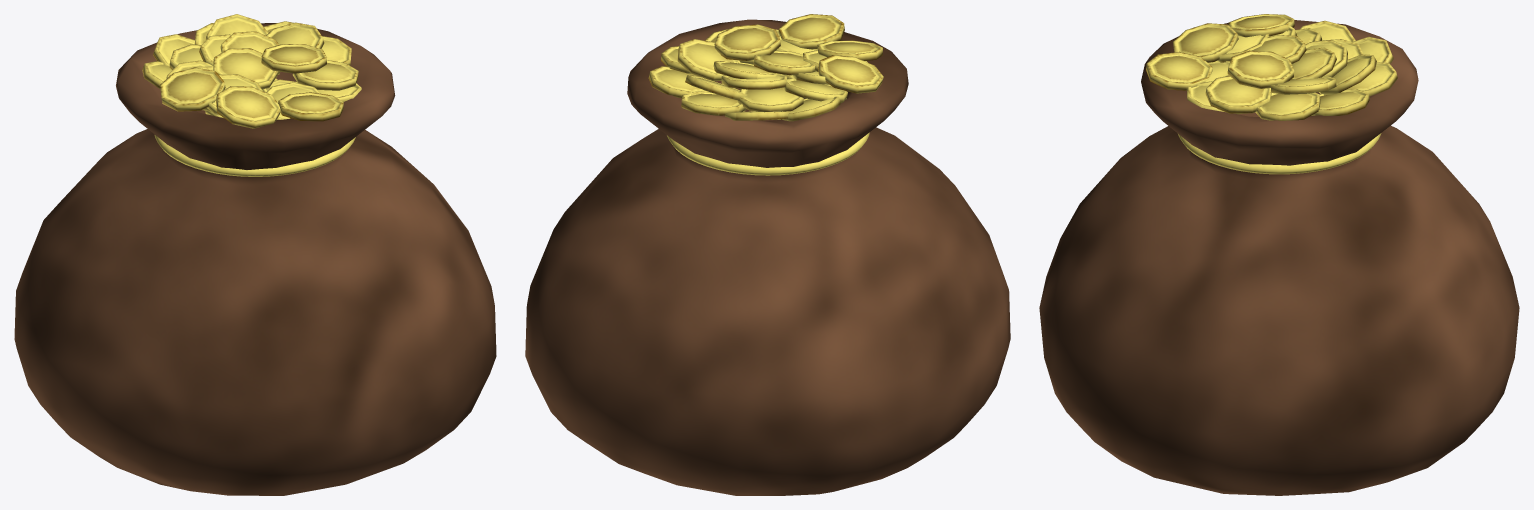
Rendered from goldbag.glb.
The picture shows the model from 3 angles, left to right: view 1: azimuth 30°, elevation 25°; view 2: azimuth 150°, elevation 25°; view 3: azimuth 270°, elevation 25°; orthographic projection.
Visible parts, largest first — view 1: Cube; view 2: Cube; view 3: Cube.
Part boxes in pixels (left/top/right/bottom): Cube: left=14, top=14, right=496, bottom=495; Cube: left=525, top=14, right=1010, bottom=495; Cube: left=1039, top=14, right=1519, bottom=495.
Size of the model in its own units: 1.57 by 1.46 by 1.57.
1 material, 1 textured.
